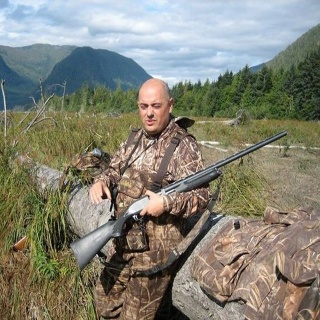shotgun: (68, 131, 289, 272)
